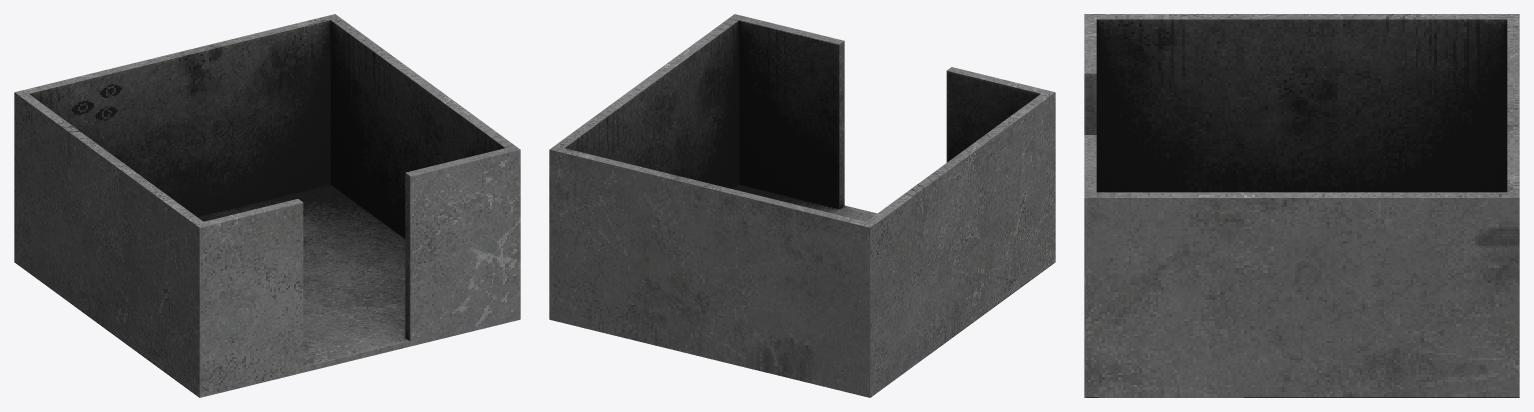
Rendered from PodvalRoom2.glb.
The picture shows the model from 3 angles, left to right: view 1: azimuth 30°, elevation 25°; view 2: azimuth 150°, elevation 25°; view 3: azimuth 270°, elevation 25°; orthographic projection. The views are drawn at different scales.
Parts seen in each view (by area): view 1: RoomSmall; view 2: RoomSmall; view 3: RoomSmall.
Part boxes in pixels (x1,y1,x2,y2): RoomSmall: [14, 14, 520, 397]; RoomSmall: [549, 14, 1055, 397]; RoomSmall: [1084, 14, 1519, 397].
Bounding box in the file's own units: 17.87 × 9.06 × 17.87.
1 material, 1 textured.
